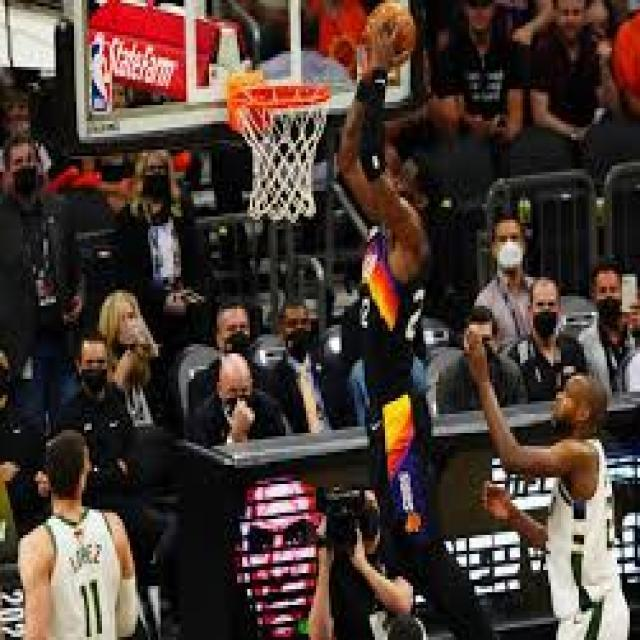rim: (368, 3, 416, 61)
